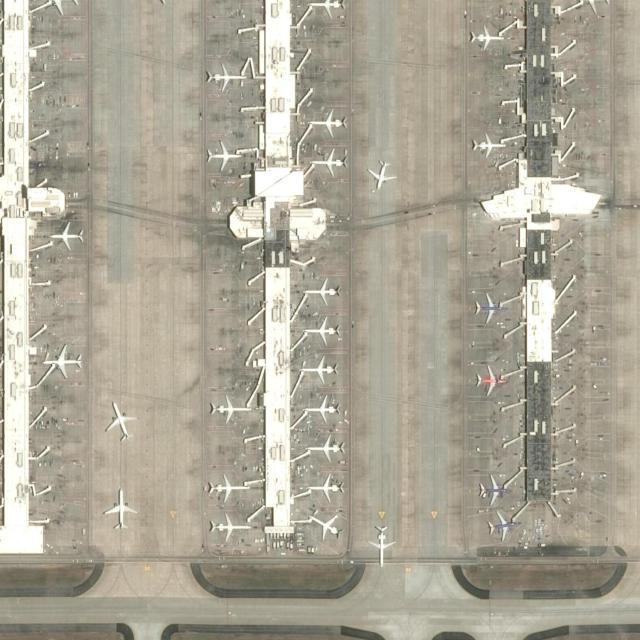Aircraft: (103, 489, 137, 531), (41, 345, 83, 378), (105, 400, 137, 442), (207, 395, 253, 423), (206, 475, 251, 503), (206, 515, 251, 543), (304, 107, 346, 137), (204, 139, 241, 173), (369, 522, 397, 566), (204, 65, 246, 93), (298, 356, 340, 384), (302, 396, 342, 424), (305, 436, 345, 464), (302, 318, 342, 345), (486, 511, 522, 541), (304, 476, 347, 501), (50, 223, 86, 252), (309, 149, 349, 175), (303, 278, 343, 304), (309, 513, 345, 540), (472, 296, 506, 324), (472, 366, 506, 394), (476, 476, 510, 504), (467, 27, 506, 51), (367, 159, 397, 190), (470, 133, 506, 157), (304, 0, 346, 19), (38, 1, 81, 15), (577, 0, 611, 14)
